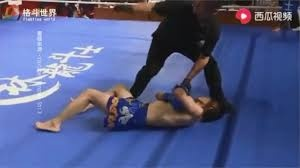falling: (31, 83, 232, 131)
